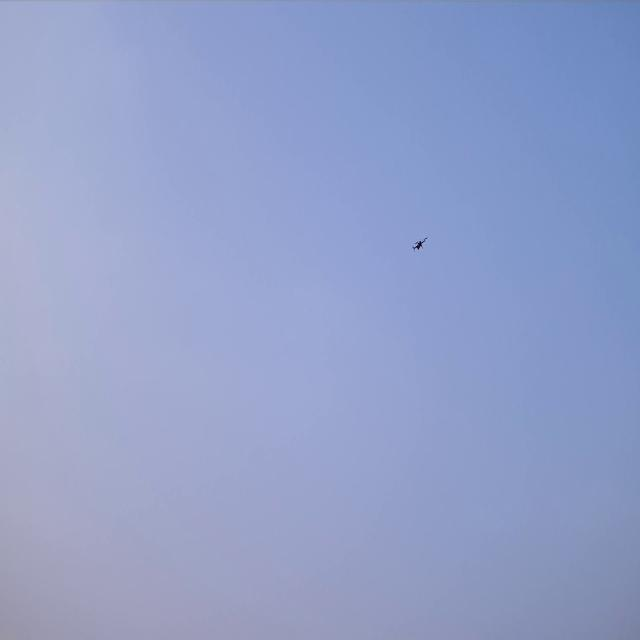UAV: (411, 234, 429, 255)
